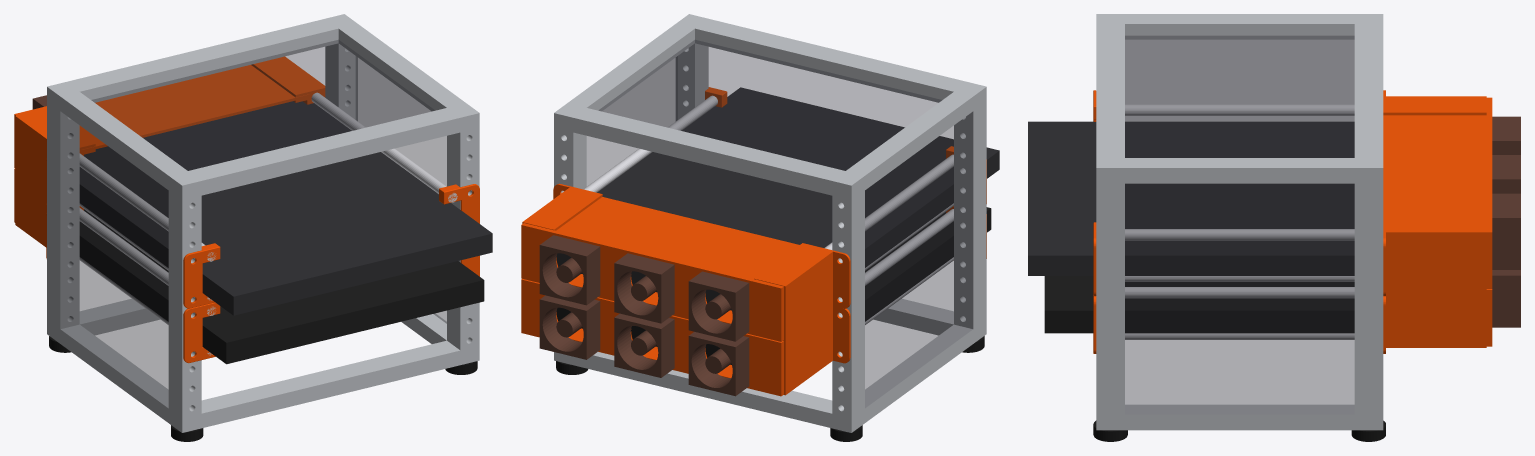
Rendered from rack-mockup.glb.
3 renders of one model, left to right at view 1: azimuth 30°, elevation 25°; view 2: azimuth 150°, elevation 25°; view 3: azimuth 270°, elevation 25°, orthographic. The views are drawn at different scales.
Visible parts, largest first — view 1: 048_REF_MacBook_Pro_14__U3_, 013_Side_panel__1, 014_Top_panel, 033_REF_Surface_Laptop_13_8__U2_, 003_Frame_rear_post__1, 043_U3_MacBook_Pro_14_duct_panel_top, 008_Frame_top_front_rail, 004_Frame_bottom_front_rail, 009_Frame_top_rear_rail, 002_Frame_front_post__1, 012_Side_panel__1, 000_Frame_front_post__1 (+15 smaller); view 2: 048_REF_MacBook_Pro_14__U3_, 013_Side_panel__1, 014_Top_panel, 043_U3_MacBook_Pro_14_duct_panel_top, 002_Frame_front_post__1, 009_Frame_top_rear_rail, 008_Frame_top_front_rail, 003_Frame_rear_post__1, 042_U3_MacBook_Pro_14_fan_plate, 036_U3_MacBook_Pro_14_rear_ear_v2_R, 027_U2_Surface_Laptop_13_8_fan_plate, 005_Frame_bottom_rear_rail (+19 smaller); view 3: 012_Side_panel__1, 048_REF_MacBook_Pro_14__U3_, 014_Top_panel, 013_Side_panel__1, 033_REF_Surface_Laptop_13_8__U2_, 043_U3_MacBook_Pro_14_duct_panel_top, 001_Frame_rear_post__1, 000_Frame_front_post__1, 037_U3_MacBook_Pro_14_rear_ear_v2_L, 006_Frame_bottom_side_rail__1, 022_U2_Surface_Laptop_13_8_rear_ear_v2_L, 010_Frame_top_side_rail__1 (+14 smaller).
Part boxes in pixels (box(x1,y1,x2,y2)): 048_REF_MacBook_Pro_14__U3_: box(79, 101, 492, 315); 013_Side_panel__1: box(60, 112, 168, 407); 014_Top_panel: box(91, 40, 434, 170); 033_REF_Surface_Laptop_13_8__U2_: box(79, 209, 484, 364); 003_Frame_rear_post__1: box(47, 82, 79, 343); 043_U3_MacBook_Pro_14_duct_panel_top: box(79, 65, 309, 152); 008_Frame_top_front_rail: box(188, 108, 460, 195); 004_Frame_bottom_front_rail: box(201, 340, 460, 428); 009_Frame_top_rear_rail: box(67, 19, 338, 102); 002_Frame_front_post__1: box(168, 171, 201, 432); 012_Side_panel__1: box(356, 56, 446, 323); 000_Frame_front_post__1: box(447, 103, 479, 364); 048_REF_MacBook_Pro_14__U3_: box(556, 87, 999, 310); 013_Side_panel__1: box(865, 112, 972, 407); 014_Top_panel: box(599, 40, 941, 170); 043_U3_MacBook_Pro_14_duct_panel_top: box(556, 197, 799, 278); 002_Frame_front_post__1: box(954, 82, 986, 343); 009_Frame_top_rear_rail: box(573, 108, 845, 195); 008_Frame_top_front_rail: box(695, 18, 966, 102); 003_Frame_rear_post__1: box(832, 171, 864, 432); 042_U3_MacBook_Pro_14_fan_plate: box(521, 223, 783, 341); 036_U3_MacBook_Pro_14_rear_ear_v2_R: box(754, 243, 850, 340); 027_U2_Surface_Laptop_13_8_fan_plate: box(521, 278, 783, 396); 005_Frame_bottom_rear_rail: box(573, 352, 832, 428); 012_Side_panel__1: box(1125, 184, 1354, 414); 048_REF_MacBook_Pro_14__U3_: box(1028, 121, 1354, 275); 014_Top_panel: box(1125, 36, 1354, 157); 013_Side_panel__1: box(1125, 40, 1354, 121); 033_REF_Surface_Laptop_13_8__U2_: box(1044, 276, 1354, 333); 043_U3_MacBook_Pro_14_duct_panel_top: box(1383, 115, 1486, 215); 001_Frame_rear_post__1: box(1354, 158, 1383, 430); 000_Frame_front_post__1: box(1096, 158, 1124, 430); 037_U3_MacBook_Pro_14_rear_ear_v2_L: box(1383, 216, 1486, 296); 006_Frame_bottom_side_rail__1: box(1125, 404, 1354, 430); 022_U2_Surface_Laptop_13_8_rear_ear_v2_L: box(1383, 290, 1486, 353); 010_Frame_top_side_rail__1: box(1125, 158, 1354, 183).
Size of the model in its own units: 258 by 210 by 344.
